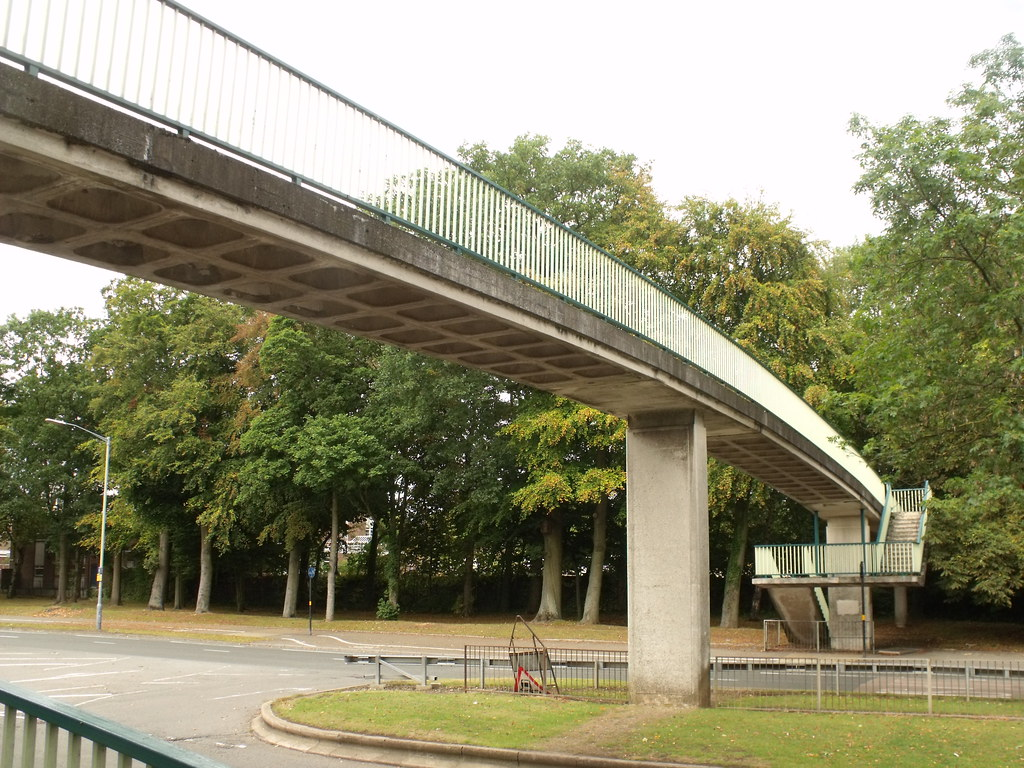bridge: (1, 1, 939, 581)
